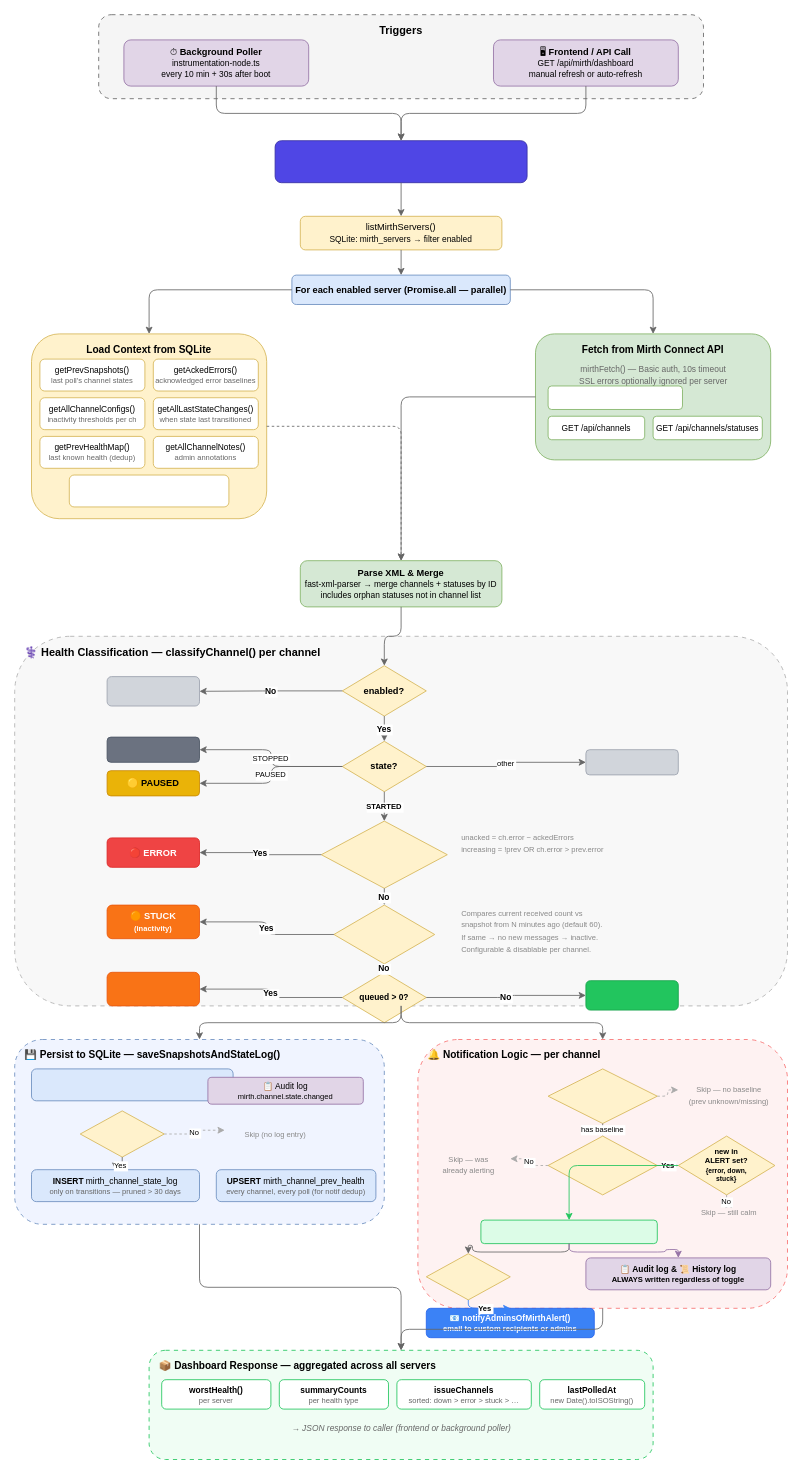
Some shapes in this 802 by 1474 pixel diagram are drawn without their labels. The shapes that lost their labels are listed below. From the top down, each one's centre as x and y in pixels, then its label:
(x=400, y=161): getMirthDashboard() lib/mirth.ts — orchestrates full poll cycle
(x=614, y=397): GET /api/server/version
(x=148, y=490): getNotificationConfig() per-server alert toggles + recipients
(x=153, y=691): 🔘 DISABLED
(x=153, y=749): ⚫ DOWN
(x=631, y=762): ❓ UNKNOWN
(x=383, y=854): unacked errors > 0 AND errors increasing?
(x=384, y=934): inactive? checkInactivity()
(x=153, y=988): 🟠 STUCK (queued msgs)
(x=631, y=995): 🟢 HEALTHY
(x=132, y=1084): INSERT mirth_channel_snapshots every channel, every poll — pruned > 7 days
(x=602, y=1096): shouldNotify() prev → new health?
(x=121, y=1133): state changed?
(x=602, y=1165): prev in CALM set? {healthy, paused, disabled}
(x=568, y=1231): ✅ Calm → Alert transition detected
(x=467, y=1276): per-server toggle on?
